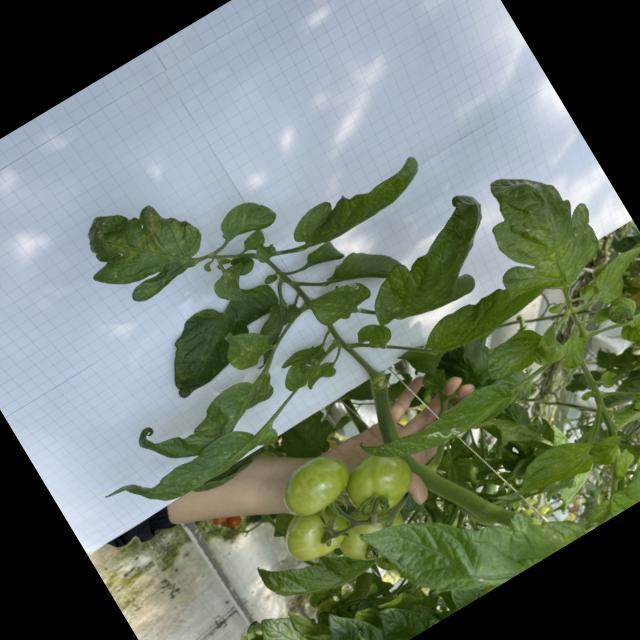Tomato target spot leaf: (356, 432, 590, 636), (450, 143, 622, 320), (342, 185, 518, 342), (101, 400, 284, 536), (120, 351, 292, 481), (66, 175, 218, 319), (358, 363, 517, 486), (284, 147, 434, 260), (414, 262, 554, 368), (484, 428, 603, 522), (476, 322, 552, 388), (304, 268, 378, 334), (210, 190, 280, 252), (217, 314, 280, 376), (422, 416, 466, 452), (345, 277, 364, 296)
